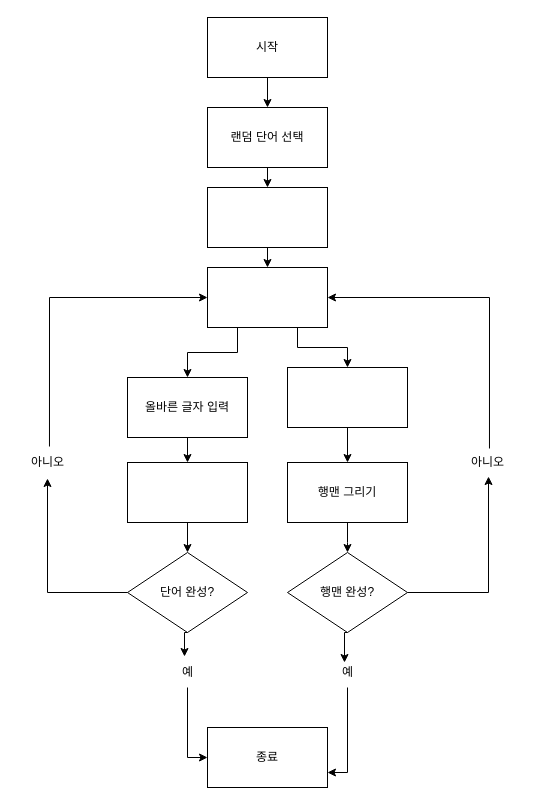
Some shapes in this 534 by 805 pixel diagram are drawn without their labels. Each missing label, with the centre of its shape:
글자의 위치를 알려주기: point 187,492
단어 맞추기 (글자수는 알려줌) 행맨 완성되면 실패: point 267,217
틀린 글자 입력: point 347,397
한글자씩 입력 받기: point 267,297
